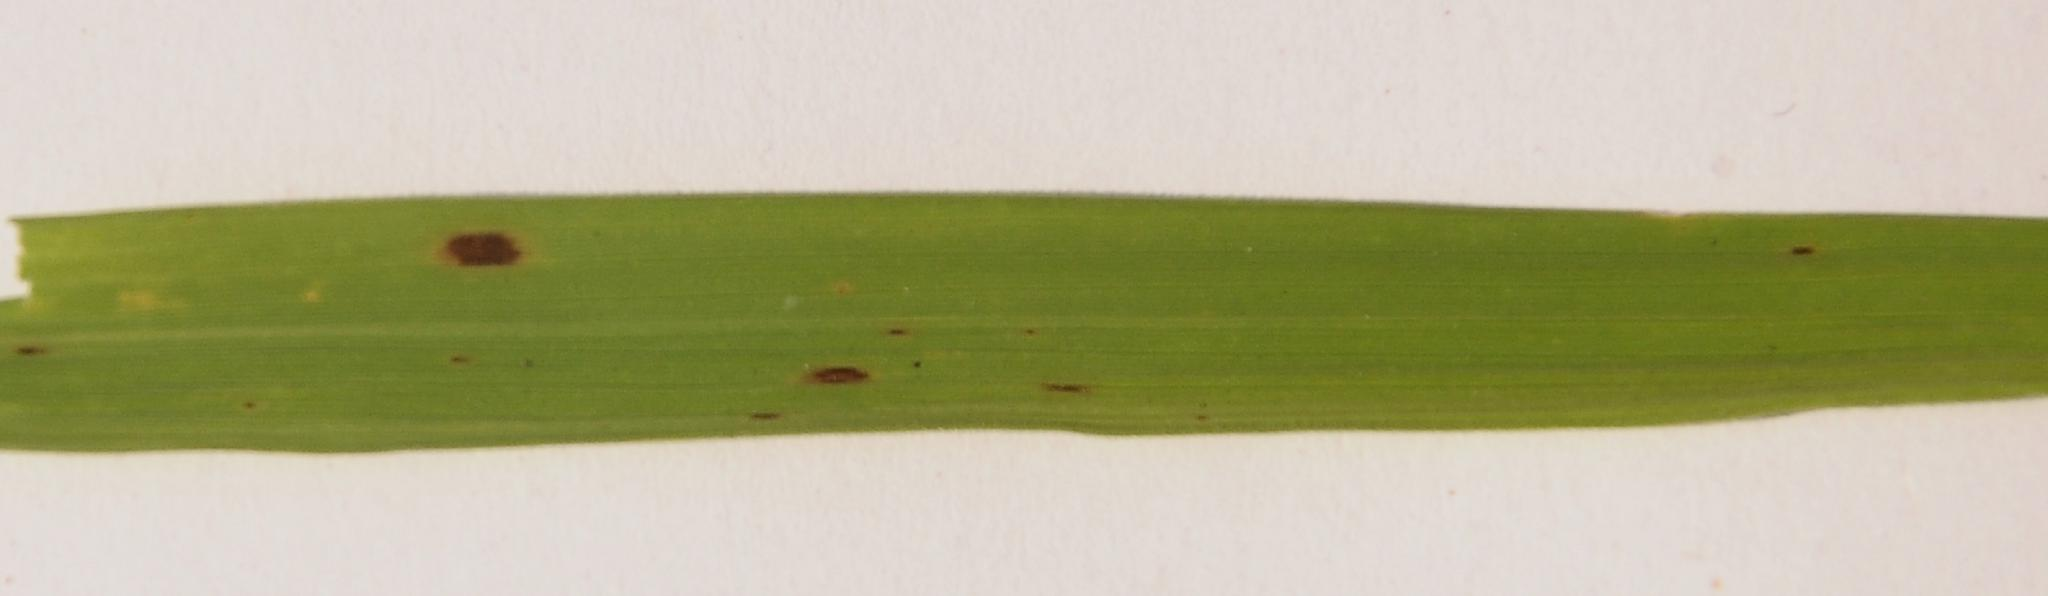0 BrownSpot: (436, 204, 542, 284), (1, 318, 101, 391), (999, 350, 1117, 406), (790, 333, 872, 406), (1770, 216, 1838, 269)
